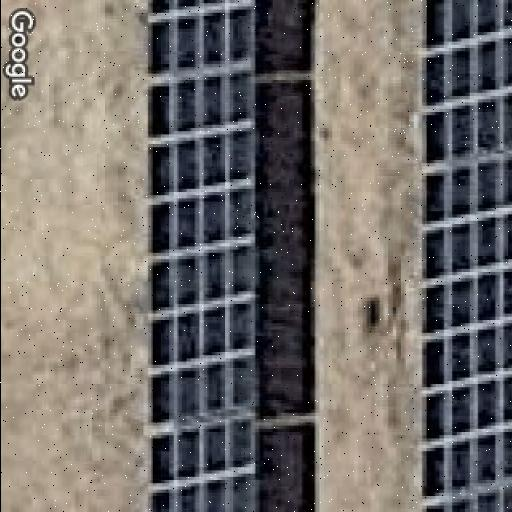solar-panel: (146, 0, 258, 512), (418, 0, 512, 512)
